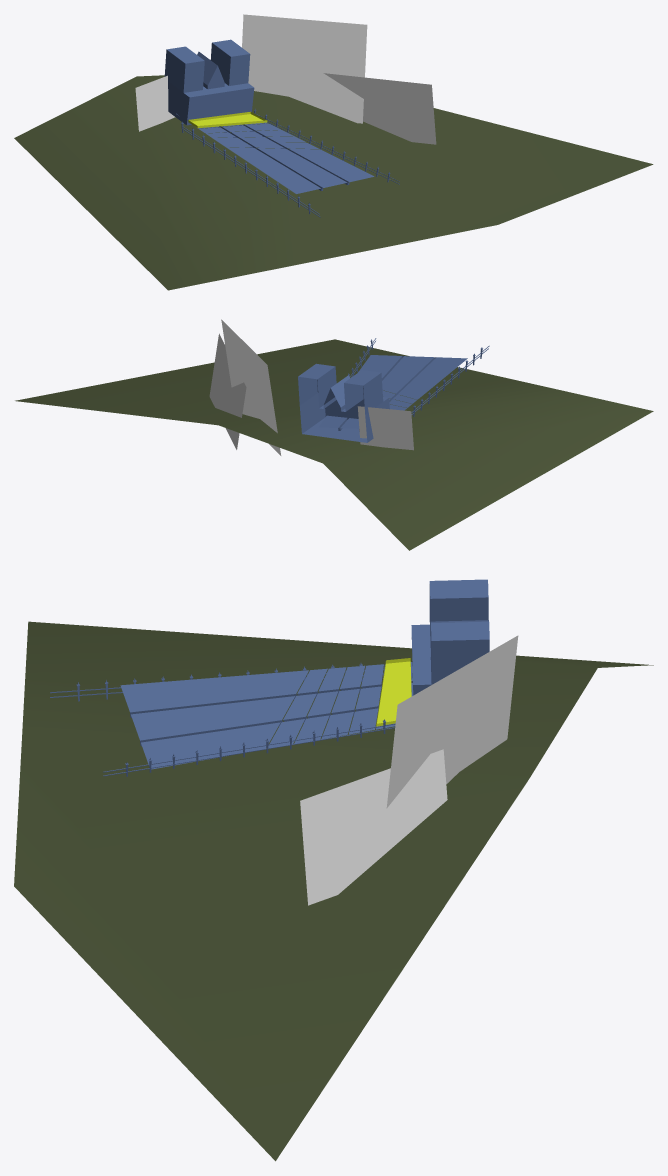
Rendered from gargoyle.fbx.
3 renders of one model, top to bottom at view 1: azimuth 30°, elevation 25°; view 2: azimuth 150°, elevation 25°; view 3: azimuth 270°, elevation 25°, orthographic. The views are drawn at different scales.
Parts seen in each view (by area): view 1: Plane.002, pngegg(1), Cube, Plane, pngegg(1).002, pngegg(1).003, Plane.001, Cube.002, Cube.001; view 2: Plane.002, Cube, Plane, pngegg(1), pngegg(1).003, pngegg(1).002, Cube.002; view 3: Plane.002, Plane, pngegg(1).002, pngegg(1), Cube, Plane.001, Cube.001.
Part boxes in pixels (x1,y1,x2,y2): Plane.002: [14, 75, 653, 290]; pngegg(1): [242, 14, 367, 123]; Cube: [164, 39, 254, 125]; Plane: [176, 113, 374, 193]; pngegg(1).002: [323, 73, 436, 144]; pngegg(1).003: [135, 75, 175, 131]; Plane.001: [188, 111, 267, 128]; Cube.002: [181, 121, 320, 217]; Cube.001: [254, 109, 399, 184]; Plane.002: [15, 339, 653, 550]; Cube: [298, 363, 389, 442]; Plane: [318, 355, 467, 431]; pngegg(1): [221, 319, 281, 455]; pngegg(1).003: [357, 406, 413, 450]; pngegg(1).002: [209, 333, 246, 449]; Cube.002: [411, 345, 489, 416]; Plane.002: [14, 621, 653, 1161]; Plane: [120, 662, 413, 769]; pngegg(1).002: [300, 749, 447, 905]; pngegg(1): [386, 635, 518, 808]; Cube: [411, 579, 489, 695]; Plane.001: [376, 658, 411, 726]; Cube.001: [103, 719, 395, 776].
Bounding box in the file's own units: 2418 × 713 × 1517.
